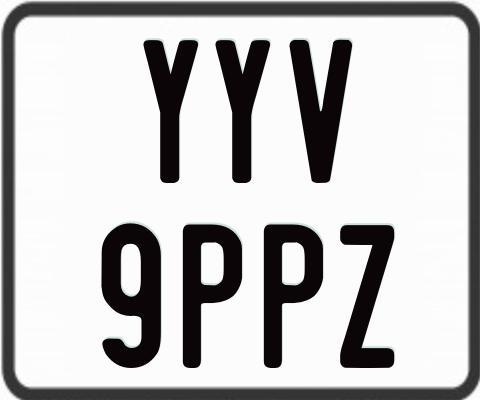9: (101, 221, 165, 369)
P: (180, 222, 244, 371), (263, 224, 326, 373)
V: (288, 39, 355, 183)
Y: (213, 39, 271, 184), (144, 39, 198, 188)
Z: (337, 225, 393, 371)
